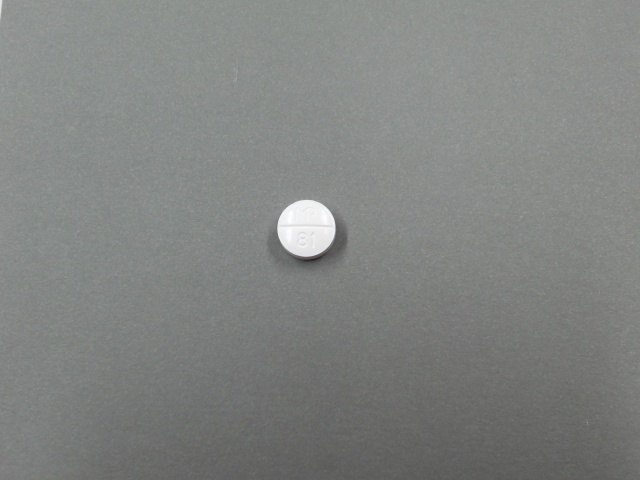1: (309, 229, 317, 249)
8: (296, 229, 308, 249)
M: (294, 205, 307, 223)
|: (277, 223, 339, 229)
